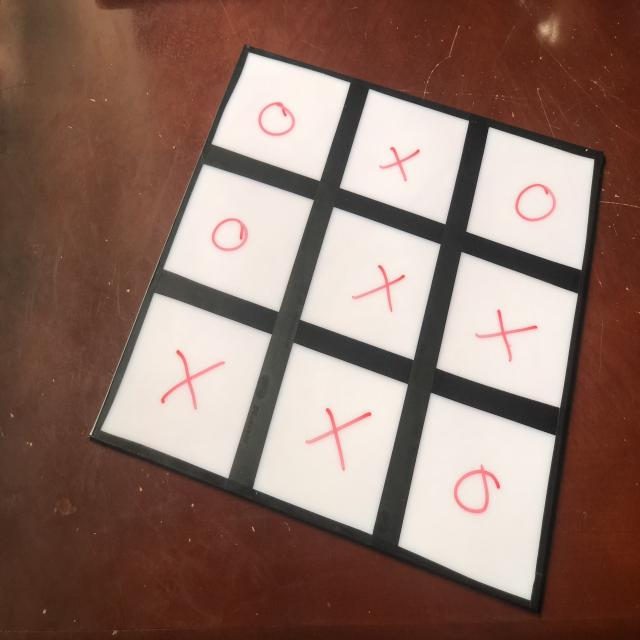o: (453, 460, 505, 523), (512, 175, 563, 225), (257, 95, 300, 146), (211, 216, 254, 256)
x: (150, 346, 229, 413), (303, 407, 373, 469), (473, 309, 536, 362), (354, 262, 412, 312), (381, 144, 423, 185)
